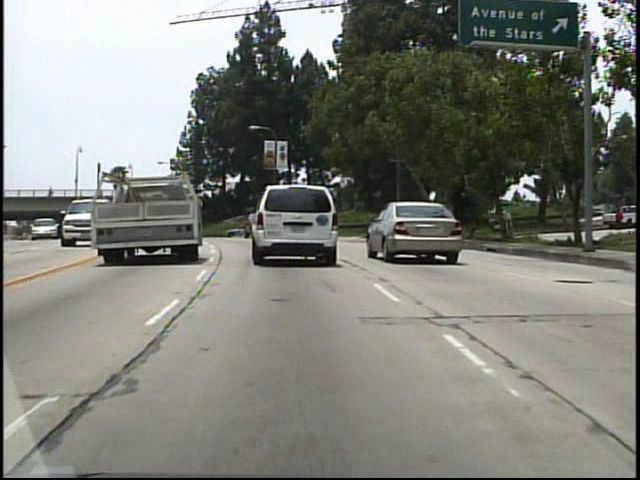person: (45, 183, 55, 203)
